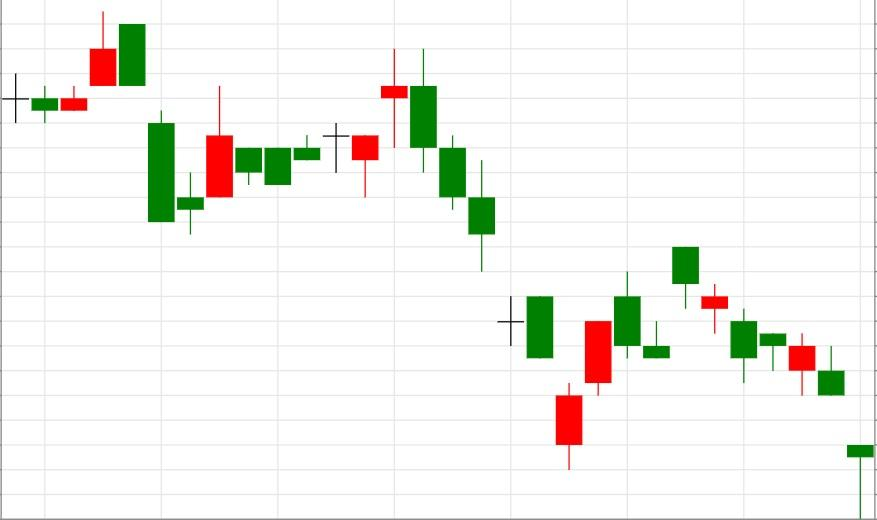bearish_engulfing_fall: (147, 48, 438, 235)
three_black_crows_fall: (148, 49, 496, 271)
